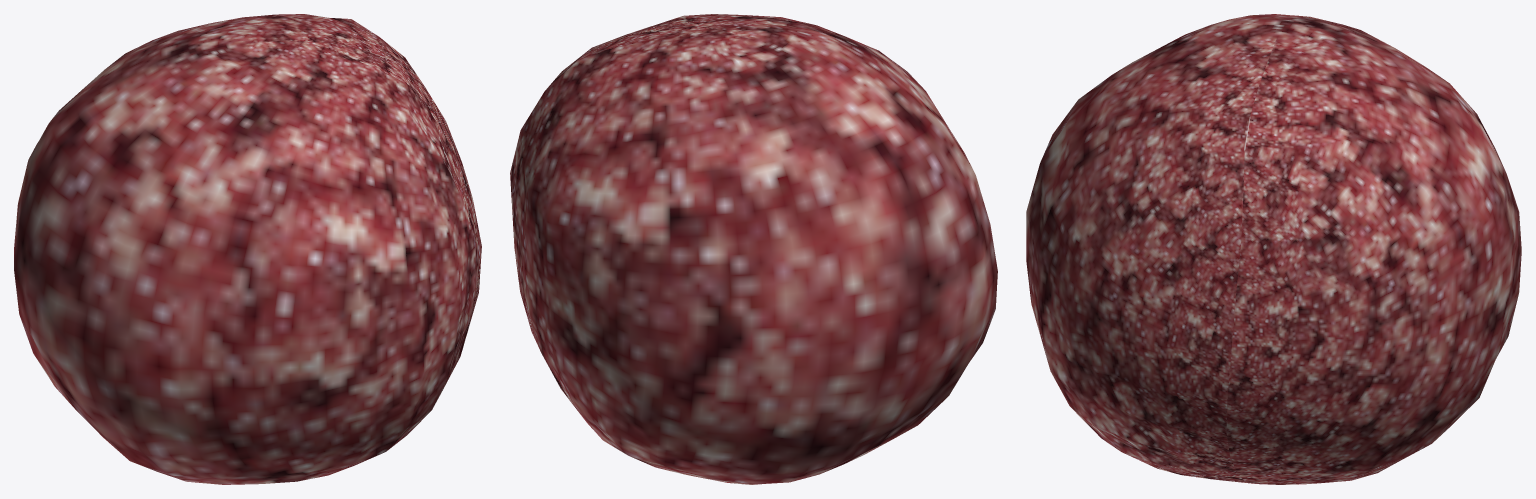
File: VFX_Meatball.fbx
3 renders of one model, left to right at view 1: azimuth 30°, elevation 25°; view 2: azimuth 150°, elevation 25°; view 3: azimuth 270°, elevation 25°, orthographic. The views are drawn at different scales.
Visible parts, largest first — view 1: Meatball; view 2: Meatball; view 3: Meatball.
Boxes of the visible parts, x1,y1,x2,y2 form: Meatball: (14,14,481,484); Meatball: (510,14,997,484); Meatball: (1026,14,1521,484).
Size of the model in its own units: 0.0629 by 0.059 by 0.0622.
